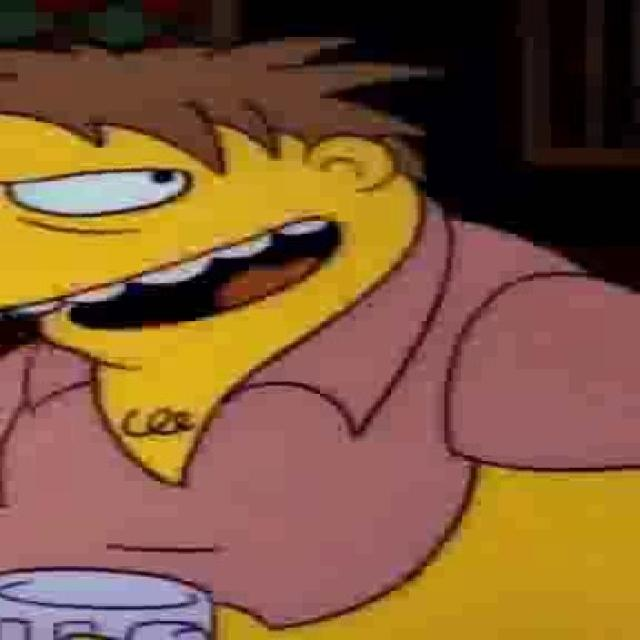Barney Gumble: (0, 28, 444, 396)
